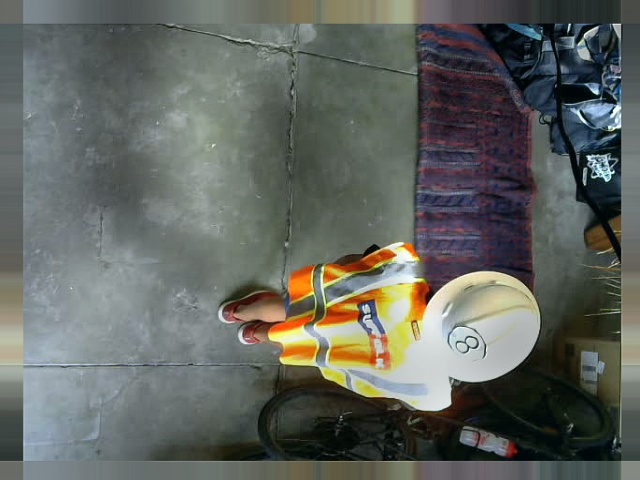eight: (446, 325, 485, 364)
